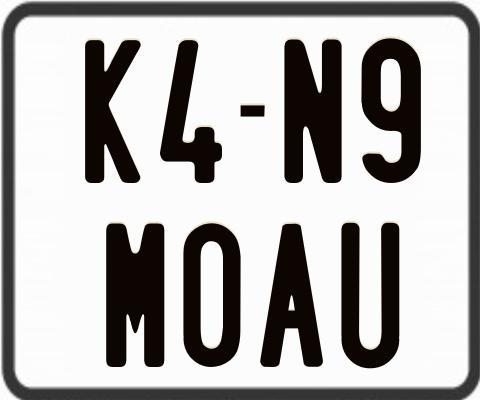0: (183, 221, 246, 368)
4: (159, 38, 224, 182)
9: (359, 38, 419, 184)
A: (259, 224, 327, 367)
K: (83, 39, 141, 184)
M: (106, 223, 169, 368)
N: (281, 39, 344, 187)
U: (338, 220, 401, 365)
